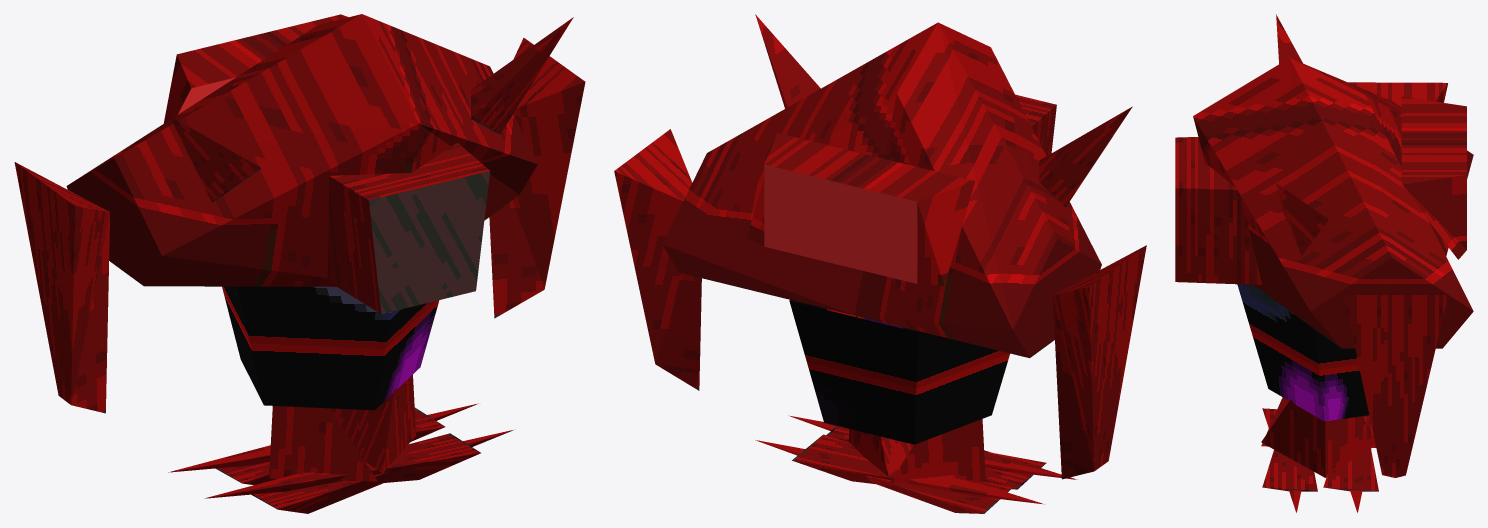
Rendered from model_045_robot_noname.glb.
3 renders of one model, left to right at view 1: azimuth 30°, elevation 25°; view 2: azimuth 150°, elevation 25°; view 3: azimuth 270°, elevation 25°, orthographic. The views are drawn at different scales.
Visible parts, largest first — view 1: model_045; view 2: model_045; view 3: model_045.
Boxes of the visible parts, bbox=[...] form: model_045: bbox=[14, 14, 585, 513]; model_045: bbox=[614, 14, 1146, 513]; model_045: bbox=[1175, 14, 1473, 513].
Size of the model in its own units: 10.47 by 9.54 by 6.21.
5 materials, 5 textured.
